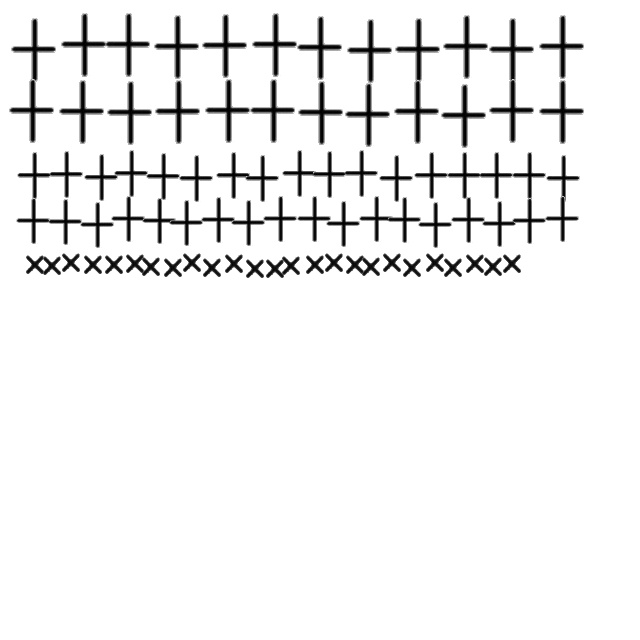double: (8, 18, 58, 84), (199, 14, 249, 80), (294, 16, 344, 82), (392, 18, 442, 84), (486, 18, 536, 84), (56, 80, 106, 146), (152, 80, 202, 146), (391, 80, 441, 146), (438, 84, 488, 150), (536, 80, 586, 146), (58, 14, 108, 78), (102, 14, 152, 78), (151, 16, 201, 80), (249, 14, 299, 78), (344, 20, 394, 84), (440, 16, 490, 80), (536, 16, 586, 80), (6, 80, 56, 144), (104, 82, 154, 146), (202, 80, 252, 144), (247, 80, 297, 144), (295, 82, 345, 146), (342, 84, 392, 148), (486, 80, 536, 144), (82, 154, 120, 202), (112, 150, 150, 198), (144, 153, 182, 201), (214, 152, 252, 200), (280, 150, 318, 198), (310, 151, 348, 199), (342, 150, 380, 198), (412, 152, 450, 200), (510, 152, 548, 200), (544, 155, 582, 203), (14, 198, 52, 246), (78, 202, 116, 250), (140, 198, 178, 246), (416, 202, 454, 250), (510, 198, 548, 246), (46, 200, 84, 246), (324, 202, 362, 248), (480, 202, 518, 248), (16, 152, 52, 200), (48, 151, 84, 199), (178, 155, 214, 203), (244, 155, 280, 203), (378, 155, 414, 203), (446, 152, 482, 200), (478, 152, 514, 200), (110, 196, 146, 244), (168, 200, 204, 248), (230, 200, 266, 248), (262, 196, 298, 244), (296, 196, 332, 244), (358, 196, 394, 244), (544, 196, 580, 244), (200, 198, 236, 244), (386, 198, 422, 244), (450, 198, 486, 244), (24, 252, 46, 276), (41, 253, 63, 277), (60, 250, 82, 274), (82, 252, 104, 276), (103, 252, 125, 276), (124, 251, 146, 275), (140, 254, 162, 278), (162, 255, 184, 279), (181, 250, 203, 274), (201, 255, 223, 279), (223, 251, 245, 275), (244, 256, 266, 280), (264, 256, 286, 280), (280, 253, 302, 277), (304, 252, 326, 276), (323, 250, 345, 274), (344, 252, 366, 276), (360, 254, 382, 278), (381, 250, 403, 274), (401, 255, 423, 279), (424, 250, 446, 274), (442, 255, 464, 279), (464, 251, 486, 275), (482, 254, 504, 278), (501, 251, 523, 275)
